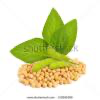Soyabean leaf: (48, 19, 78, 56), (9, 37, 49, 64), (42, 7, 64, 46)
